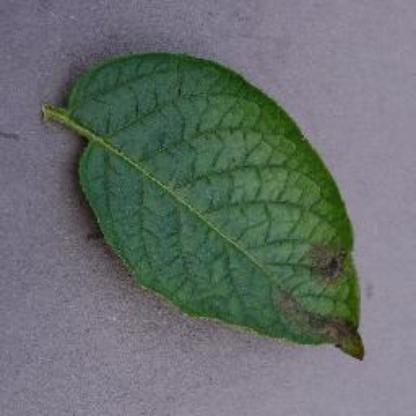Late-Blight: (49, 48, 370, 368)
